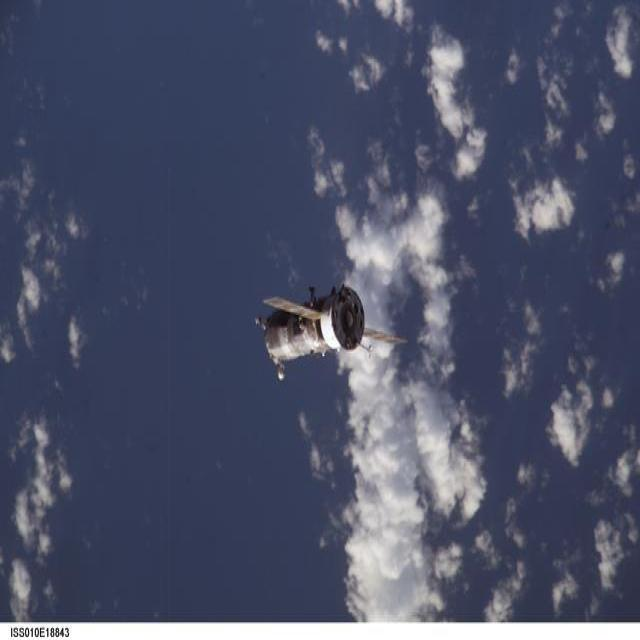medium_debris: (256, 285, 406, 380)
